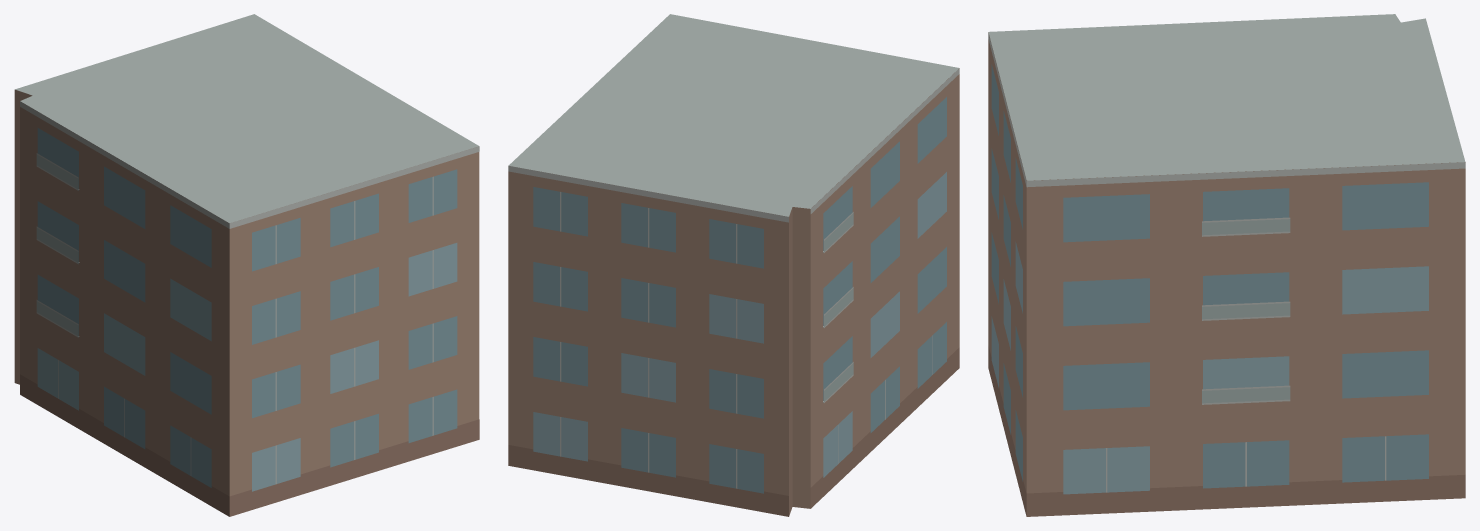
Rendered from survey-upis-32598701.glb.
The picture shows the model from 3 angles, left to right: view 1: azimuth 30°, elevation 25°; view 2: azimuth 150°, elevation 25°; view 3: azimuth 270°, elevation 25°; orthographic projection. The views are drawn at different scales.
Visible parts, largest first — view 1: survey-upis-32598701.tmp; view 2: survey-upis-32598701.tmp; view 3: survey-upis-32598701.tmp.
Part boxes in pixels (x1=…): survey-upis-32598701.tmp: x1=14, y1=14, x2=479, y2=516; survey-upis-32598701.tmp: x1=508, y1=14, x2=959, y2=516; survey-upis-32598701.tmp: x1=988, y1=14, x2=1465, y2=516.
Size of the model in its own units: 13.52 by 12.7 by 16.35.
